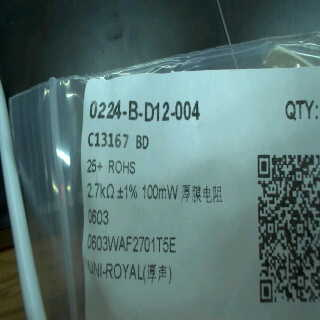2.7kR: (84, 181, 115, 203)
